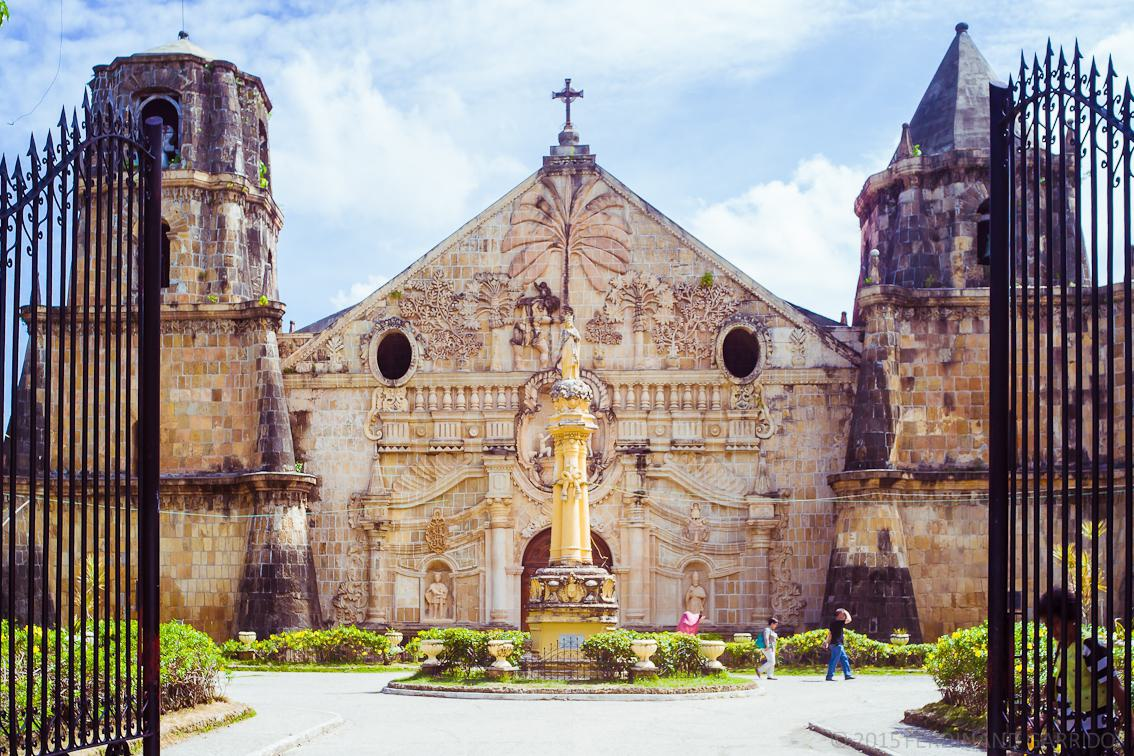miagao_church_miagao_iloilo: (27, 1, 1076, 646)
